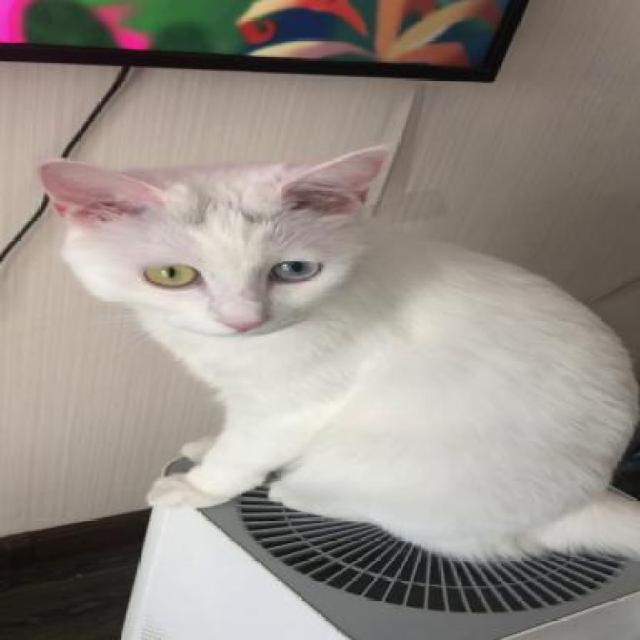cat-face: (33, 162, 372, 340)
